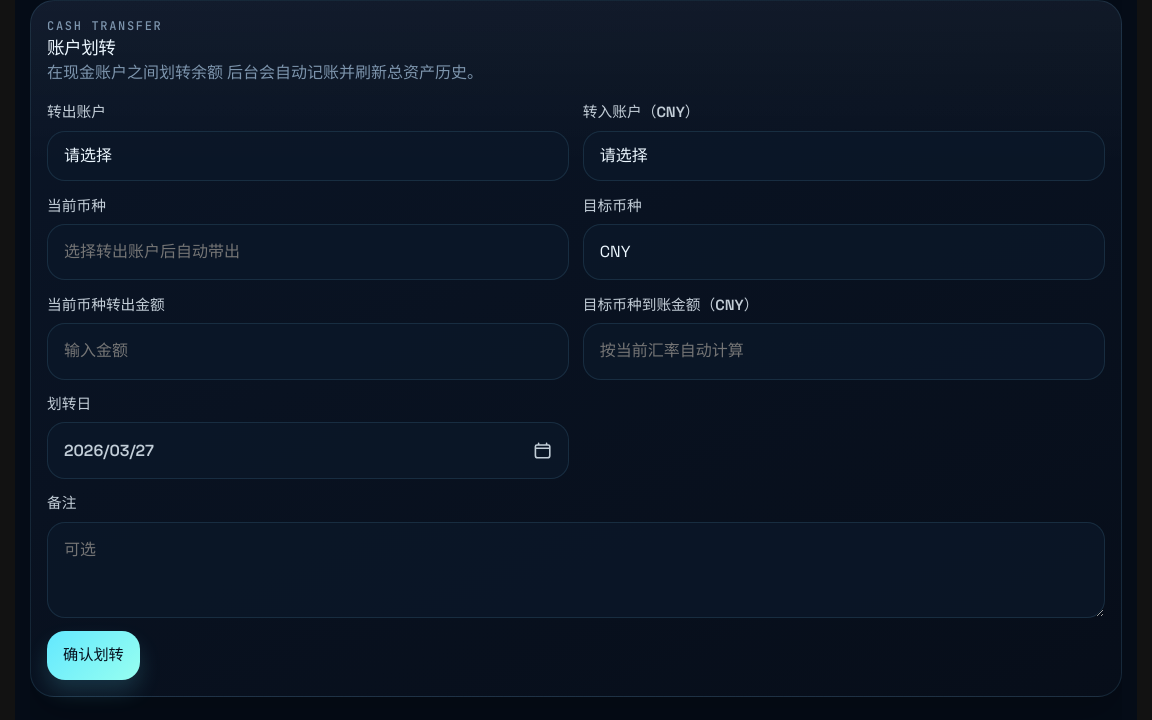
it: CashTransferPanel › shows readonly cny target amount for non-cny transfers
Select "美元账户 · 100 USD" in the dropdown labelled "转出账户" at (308, 156), box [47,131,569,181]
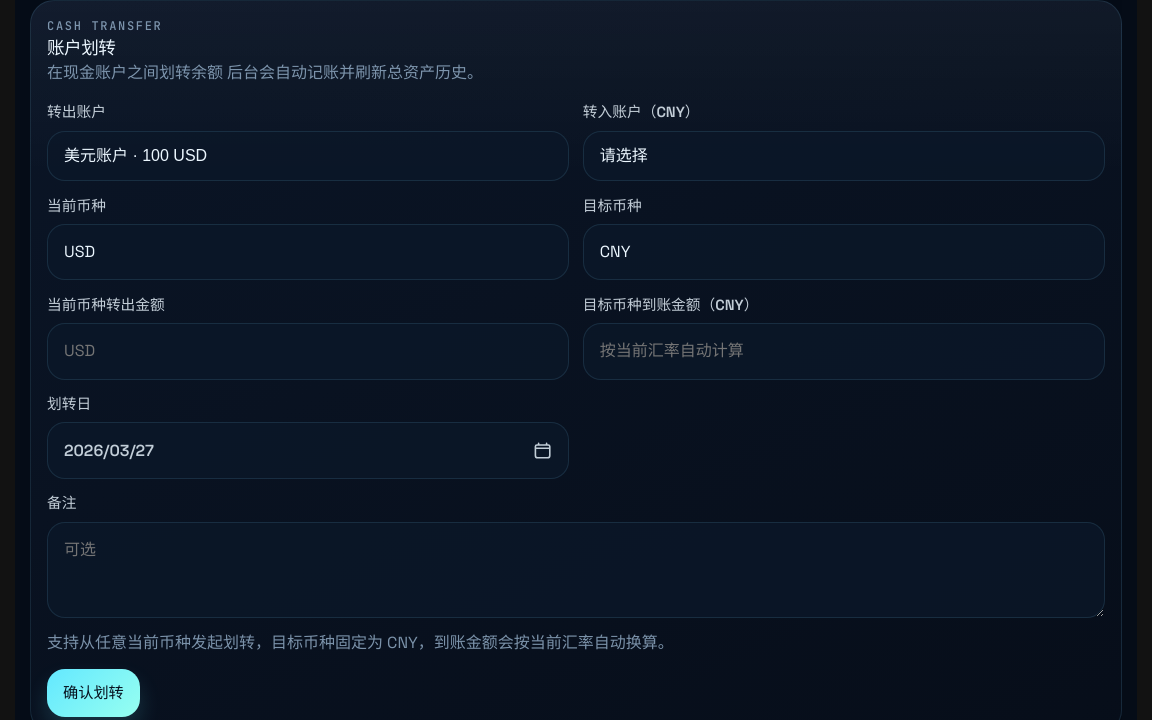
Type "12" into the field labelled "当前币种转出金额" at (308, 351), box [47,323,569,380]
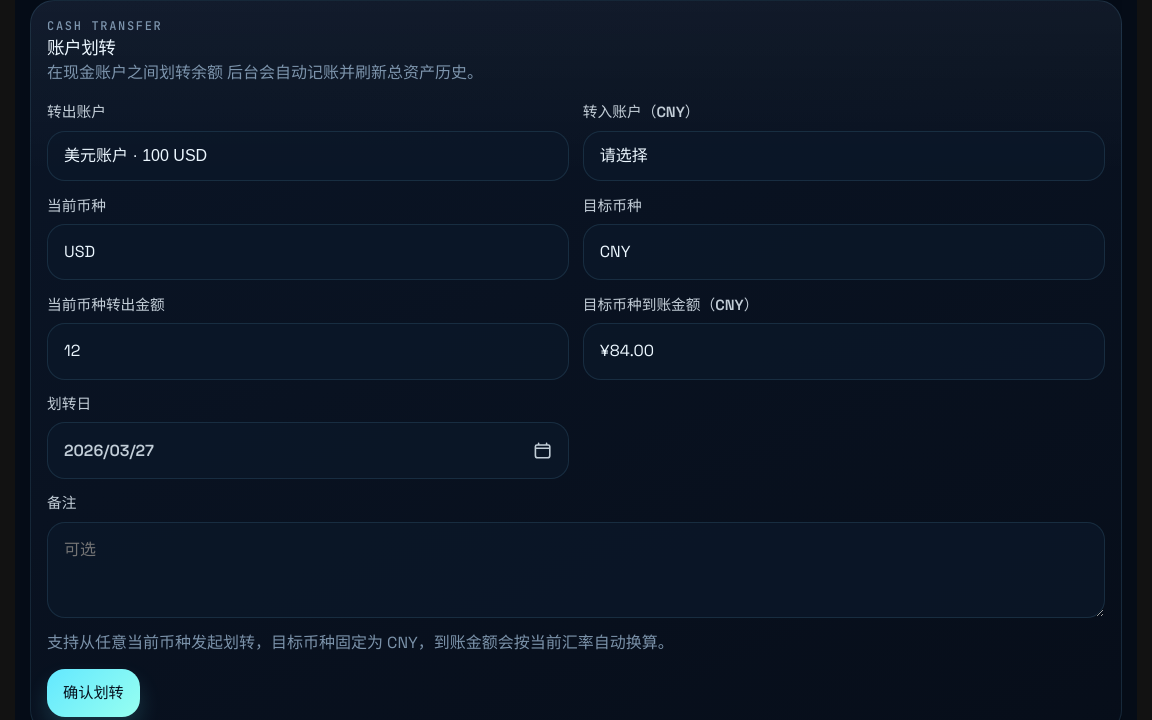
Expected: the field labelled "目标币种" holds "CNY", [583,224,1105,280]
Result: the field labelled "目标币种到账金额（CNY）" holds "¥84.00" at [583,323,1105,380]
